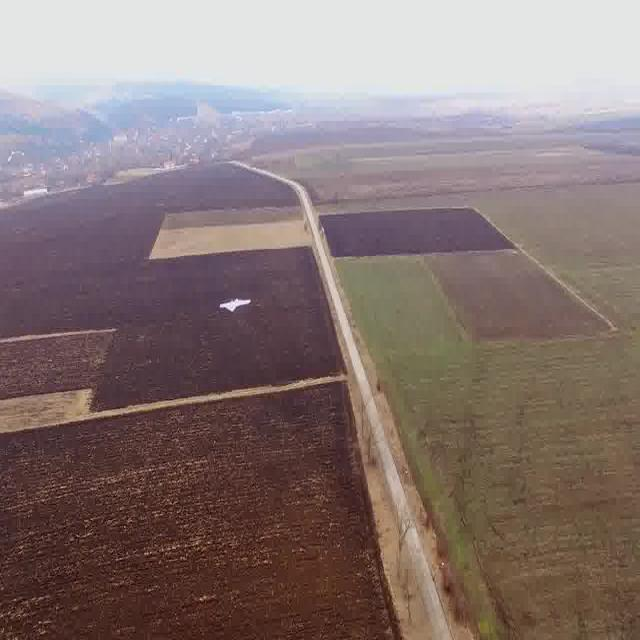iha: (210, 286, 259, 328)
